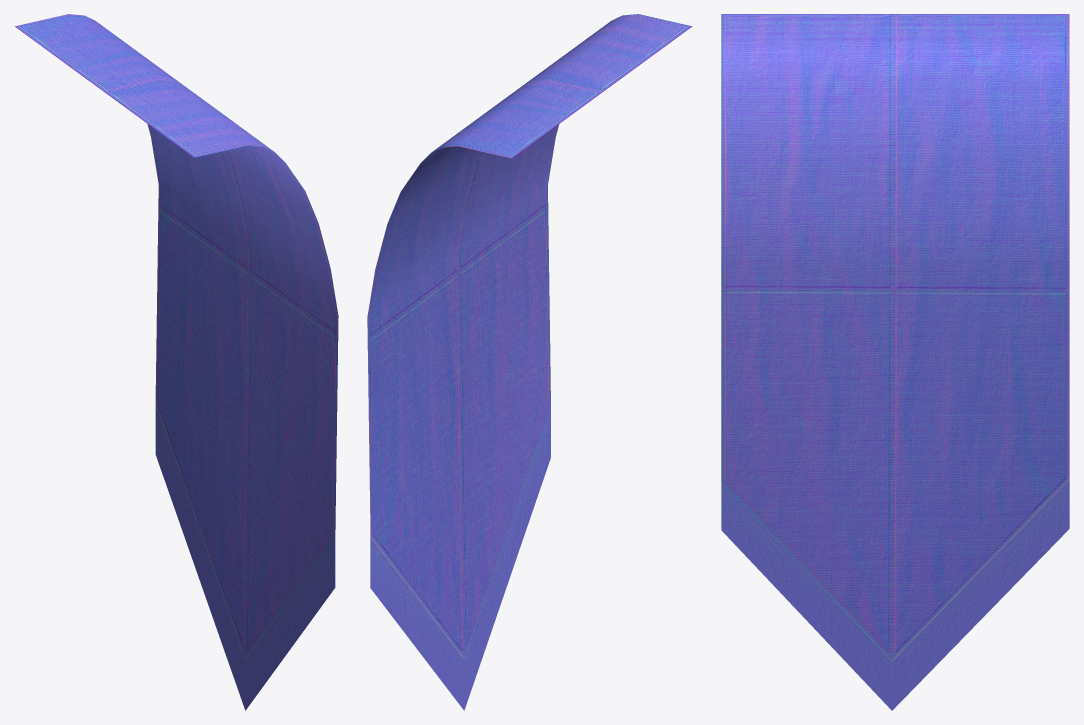
Rendered from SM_flag_02.fbx.
The picture shows the model from 3 angles, left to right: view 1: azimuth 30°, elevation 25°; view 2: azimuth 150°, elevation 25°; view 3: azimuth 270°, elevation 25°; orthographic projection. The views are drawn at different scales.
Visible parts, largest first — view 1: SM_flag_02_LOD0; view 2: SM_flag_02_LOD0; view 3: SM_flag_02_LOD0.
Boxes of the visible parts, x1,y1,x2,y2 form: SM_flag_02_LOD0: (15,14,338,710); SM_flag_02_LOD0: (367,14,692,710); SM_flag_02_LOD0: (721,14,1069,710).
Size of the model in its own units: 69.15 by 149 by 298.
1 material, 1 textured.
